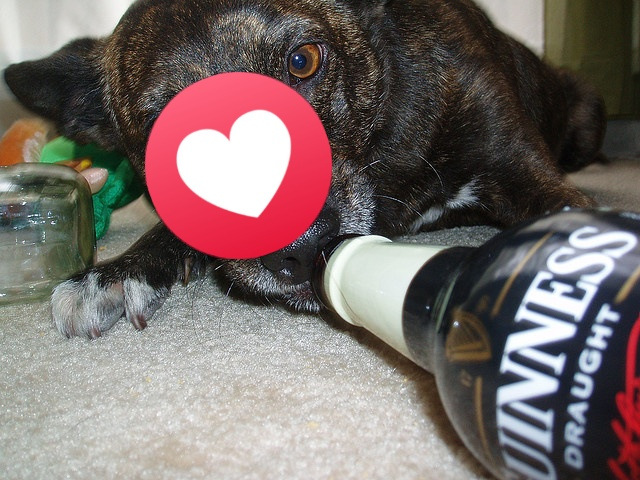love: (145, 72, 332, 259)
